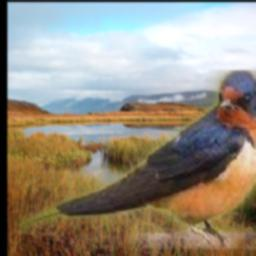Swallow: (20, 70, 256, 249)
